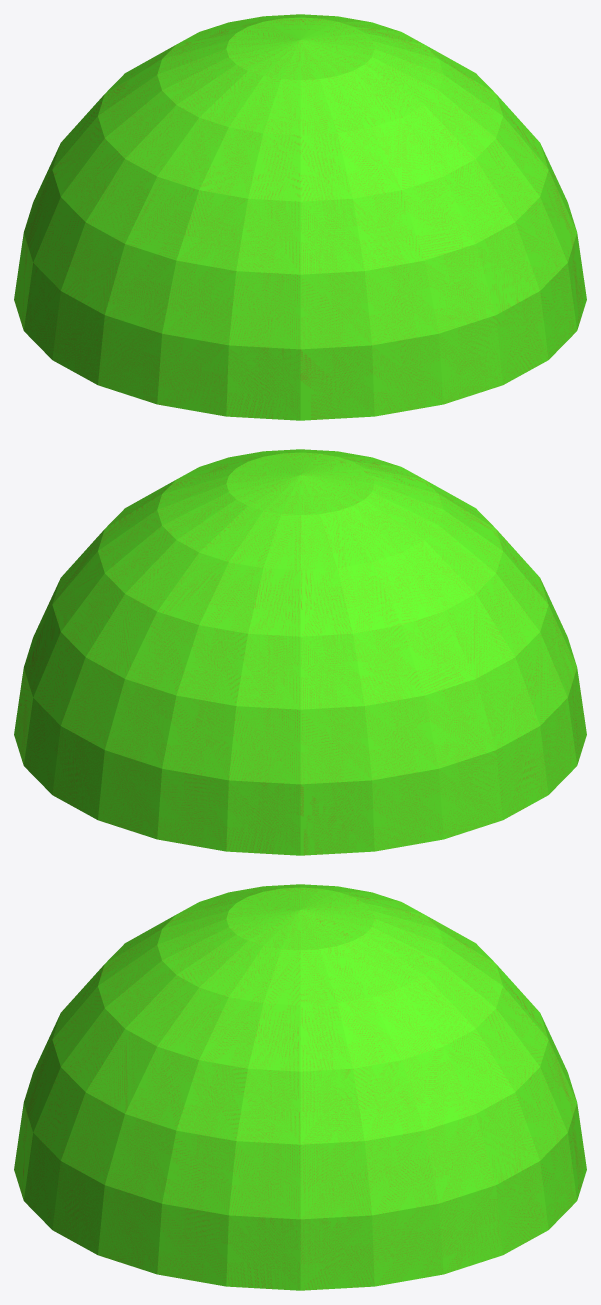
The model's file is green_100_opacity_dome.dae.
The picture shows the model from 3 angles, top to bottom: view 1: azimuth 30°, elevation 25°; view 2: azimuth 150°, elevation 25°; view 3: azimuth 270°, elevation 25°; orthographic projection.
Parts seen in each view (by area): view 1: Component1; view 2: Component1; view 3: Component1.
Boxes of the visible parts, x1,y1,x2,y2 form: Component1: (14,14,586,420); Component1: (14,449,586,855); Component1: (14,884,586,1290).
Bounding box in the file's own units: 245371 × 245371 × 132150.
